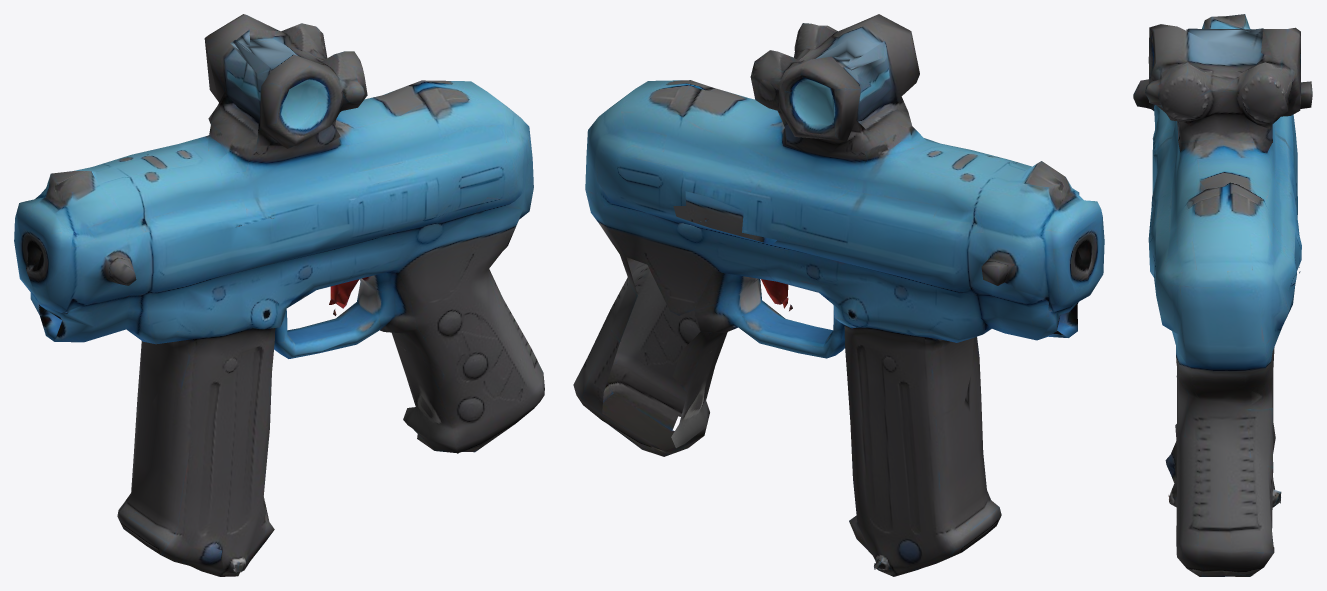
File: ump.glb
3 renders of one model, left to right at view 1: azimuth 30°, elevation 25°; view 2: azimuth 150°, elevation 25°; view 3: azimuth 270°, elevation 25°, orthographic.
Parts seen in each view (by area): view 1: tripo_node_65736872-bc1f-4dc0-93e5-324985cfd24d; view 2: tripo_node_65736872-bc1f-4dc0-93e5-324985cfd24d; view 3: tripo_node_65736872-bc1f-4dc0-93e5-324985cfd24d.
Part boxes in pixels (bbox=[...]): tripo_node_65736872-bc1f-4dc0-93e5-324985cfd24d: bbox=[14, 14, 544, 576]; tripo_node_65736872-bc1f-4dc0-93e5-324985cfd24d: bbox=[573, 14, 1104, 576]; tripo_node_65736872-bc1f-4dc0-93e5-324985cfd24d: bbox=[1133, 14, 1312, 576].
Bounding box in the file's own units: 0.9765 × 0.953 × 0.2978.
1 material, 1 textured.
